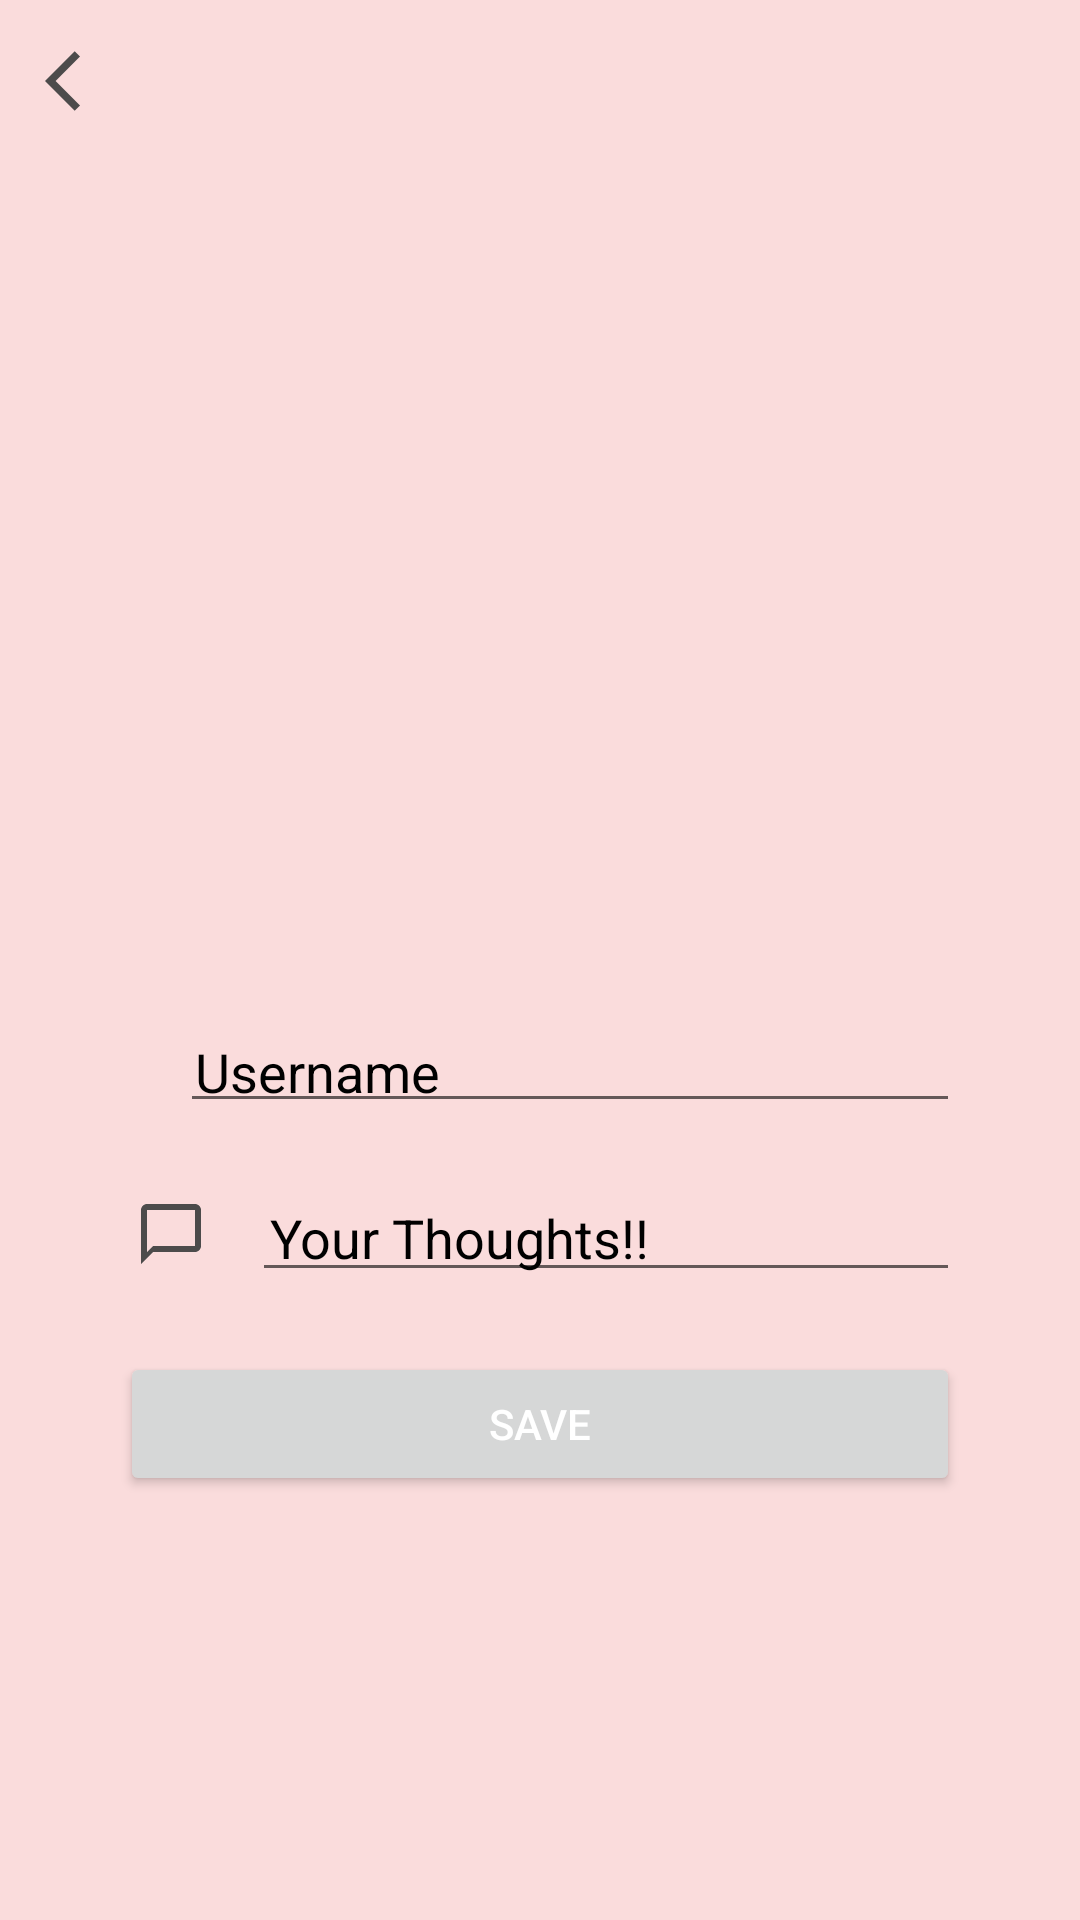

Icons on this 1080 × 1920 Android screen, each with the point to tap as [x,y]:
arrow back: [62,81]
chat bubble: [171,1234]
